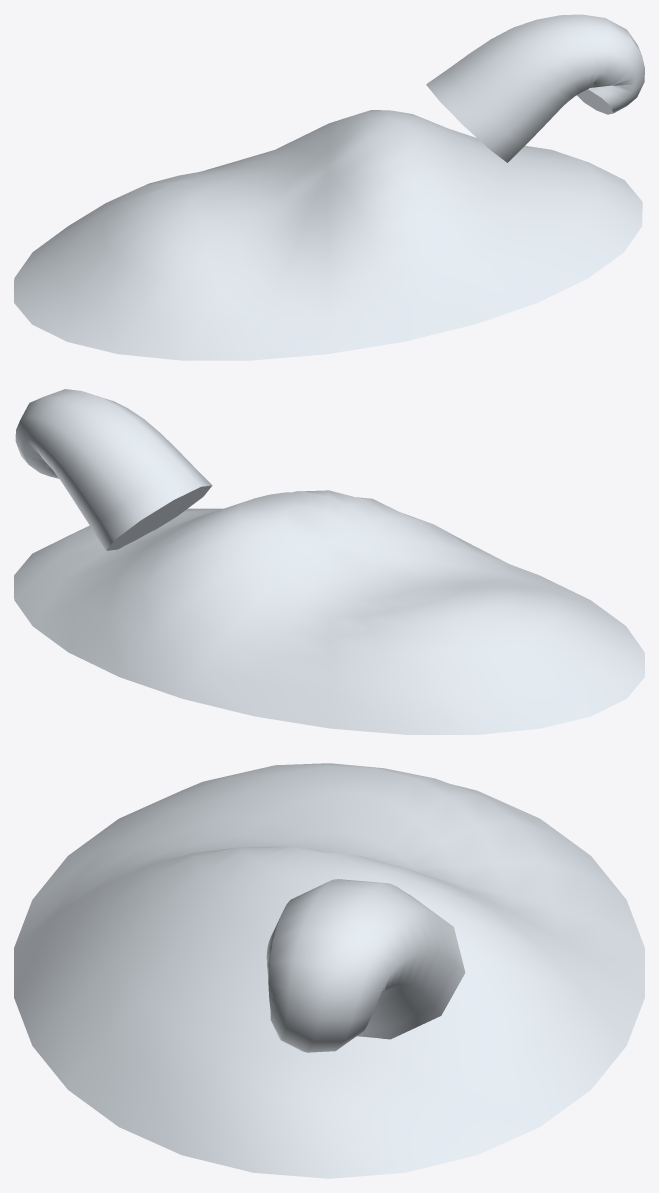
Rendered from SnowDrift.obj.
The picture shows the model from 3 angles, top to bottom: view 1: azimuth 30°, elevation 25°; view 2: azimuth 150°, elevation 25°; view 3: azimuth 270°, elevation 25°; orthographic projection. The views are drawn at different scales.
Visible parts, largest first — view 1: SnowDrift; view 2: SnowDrift; view 3: SnowDrift.
Part boxes in pixels (x1,y1,x2,y2): SnowDrift: (14, 14, 644, 360); SnowDrift: (14, 389, 644, 734); SnowDrift: (14, 763, 644, 1178).
Bounding box in the file's own units: 9.41 × 2.51 × 5.96.
1 material, 1 textured.
